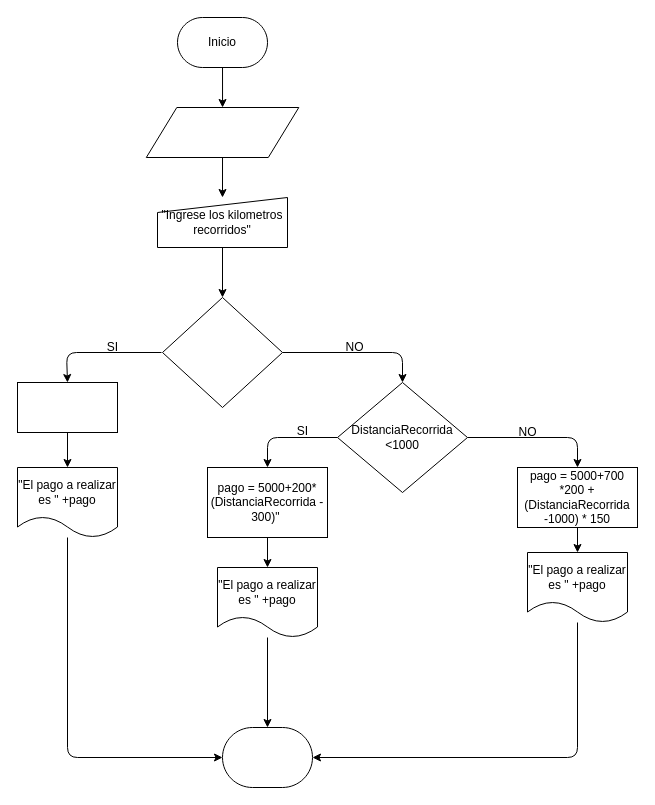
Image size: 655x805. Some labels were removed from this diagram. Here are the shapes that lost their labels. From the top down, the centre of each, then its label:
At [222,132]: "DistanciaRecorrida, pago".
At [222,352]: "DistanciaRecorida <=300".
At [67,407]: "pago = 5000".
At [267,757]: "Fin".
